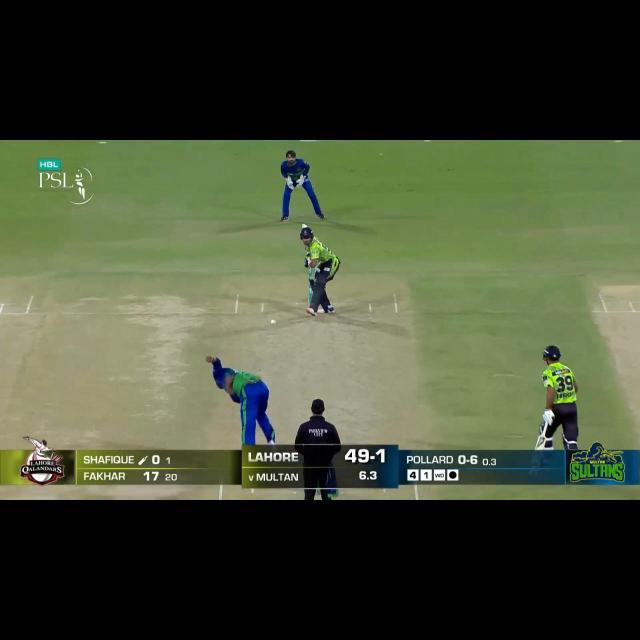bat: (535, 435, 546, 450), (304, 246, 310, 253)
toe: (300, 223, 308, 228)
